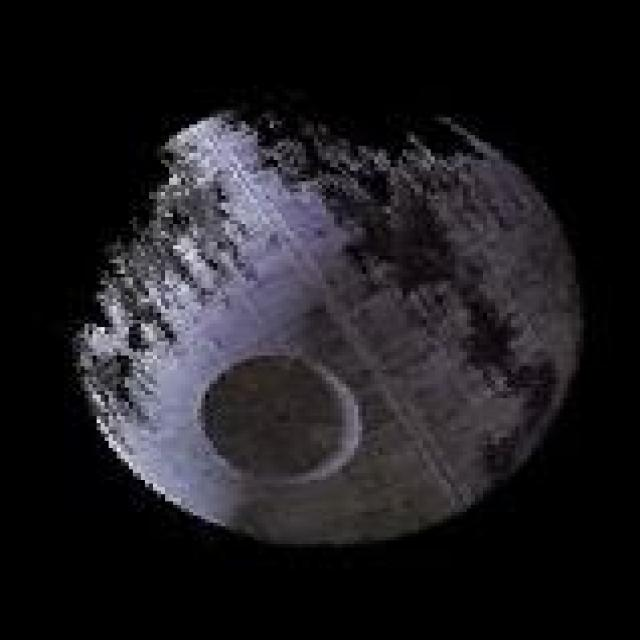Death Star: (64, 89, 592, 551)
